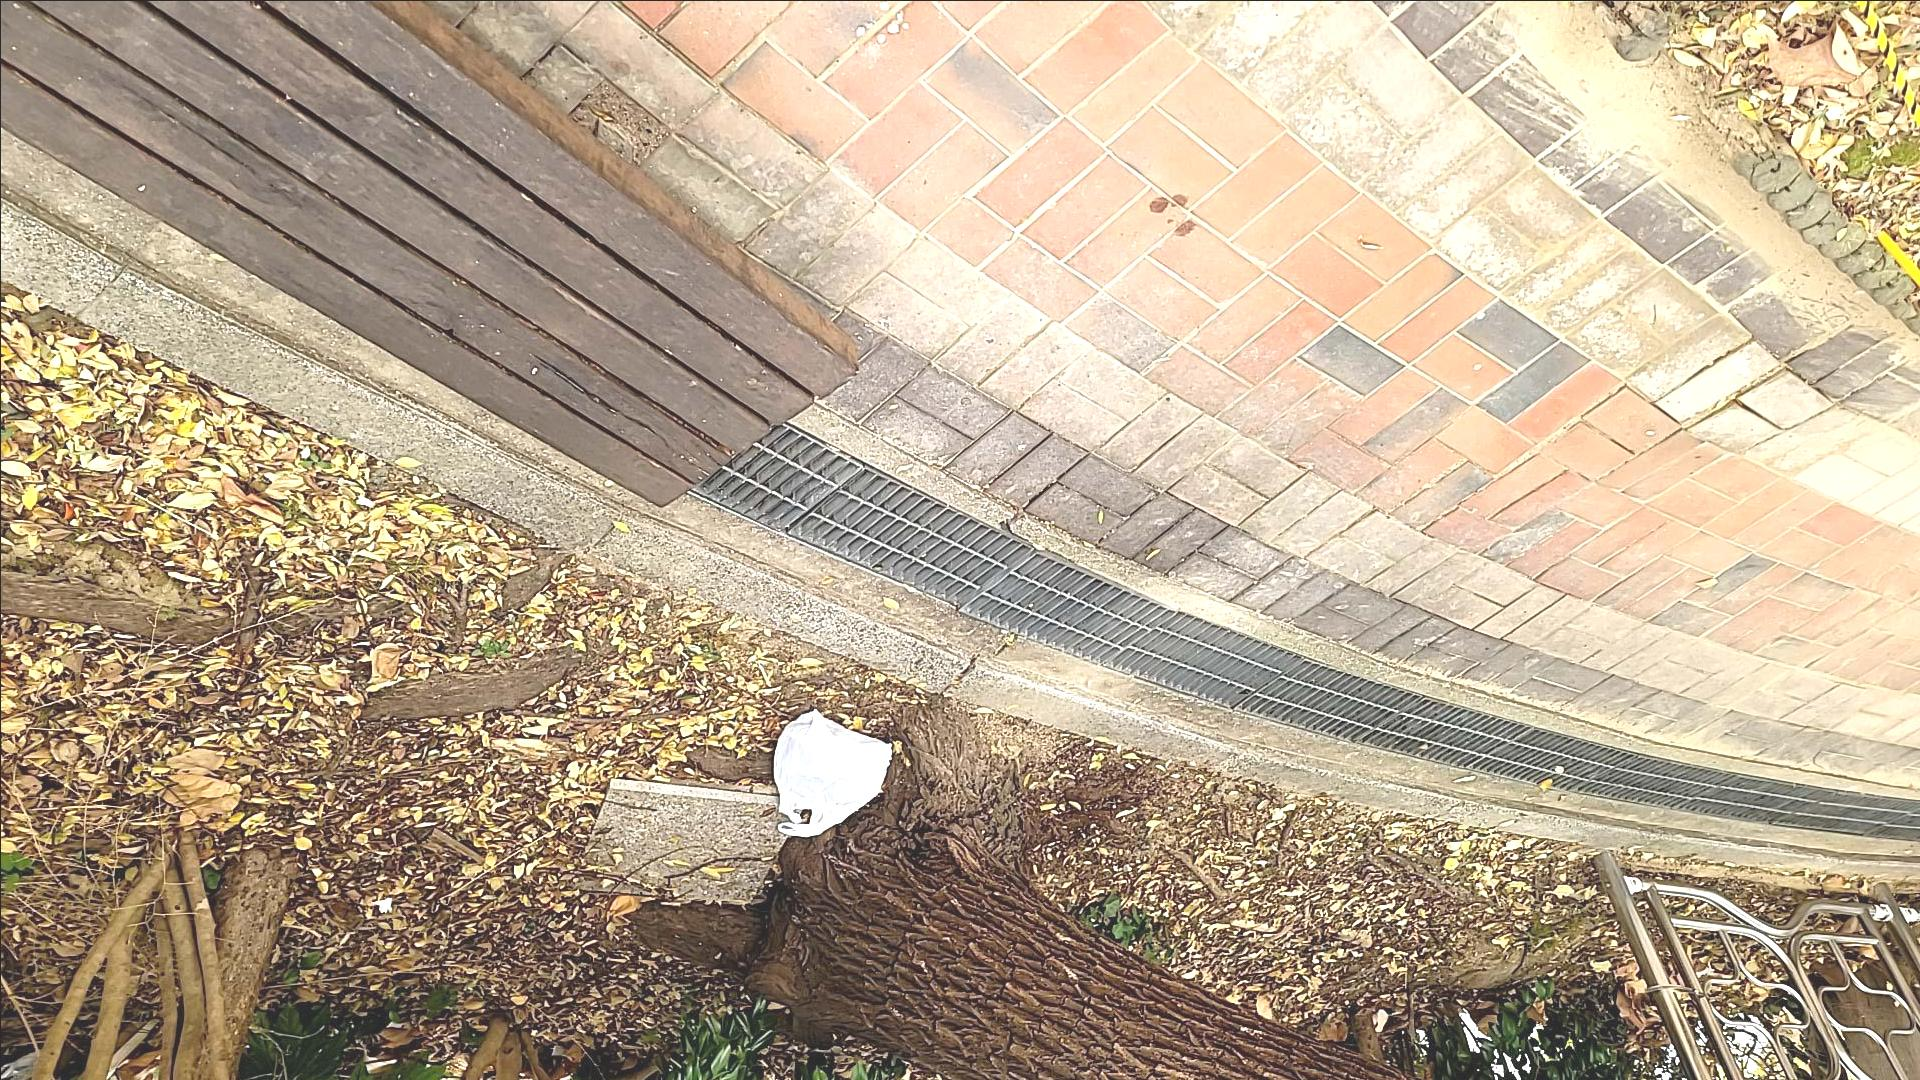white_bag: (760, 698, 899, 844)
